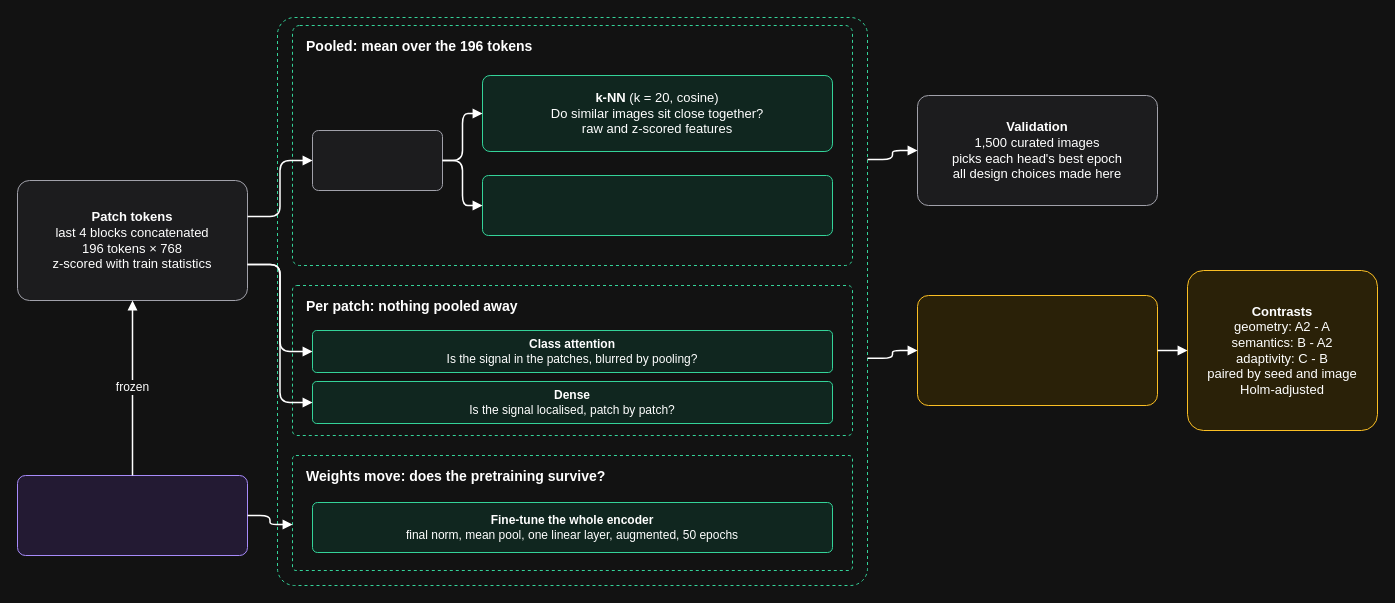
The diagram is 1395 pixels wide and 603 high, and some of its shapes have lost their labels. Each missing label, with the centre of its shape:
"768-d vector" goes at point (377, 160).
"Linear Is there a separating hyperplane?" goes at point (657, 205).
"Pretrained encoder one per arm and seed" goes at point (132, 515).
"Test COCO val2017, 4,952 images uncurated, never seen read once at the end" goes at point (1037, 350).
